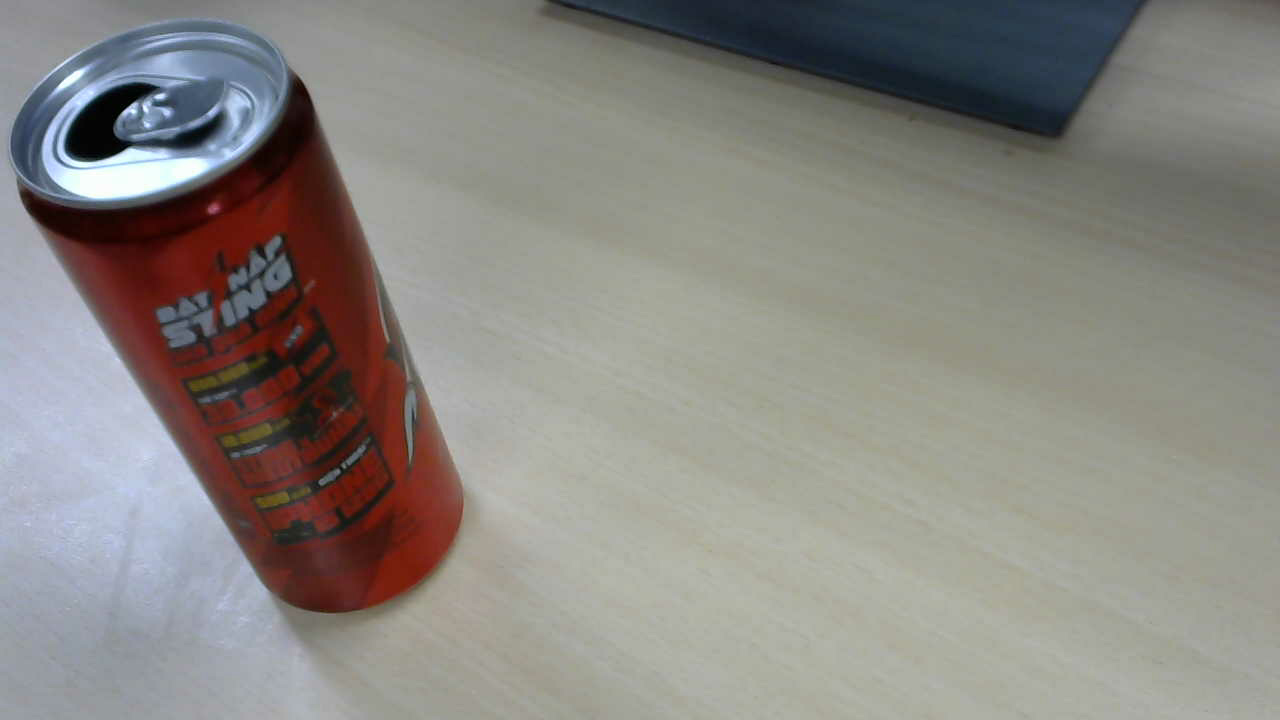Sting: (14, 25, 473, 618)
